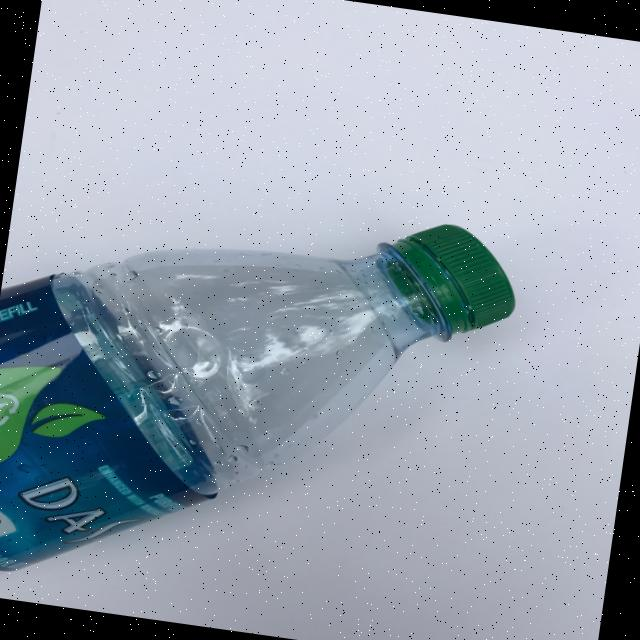plastic: (0, 162, 525, 640)
